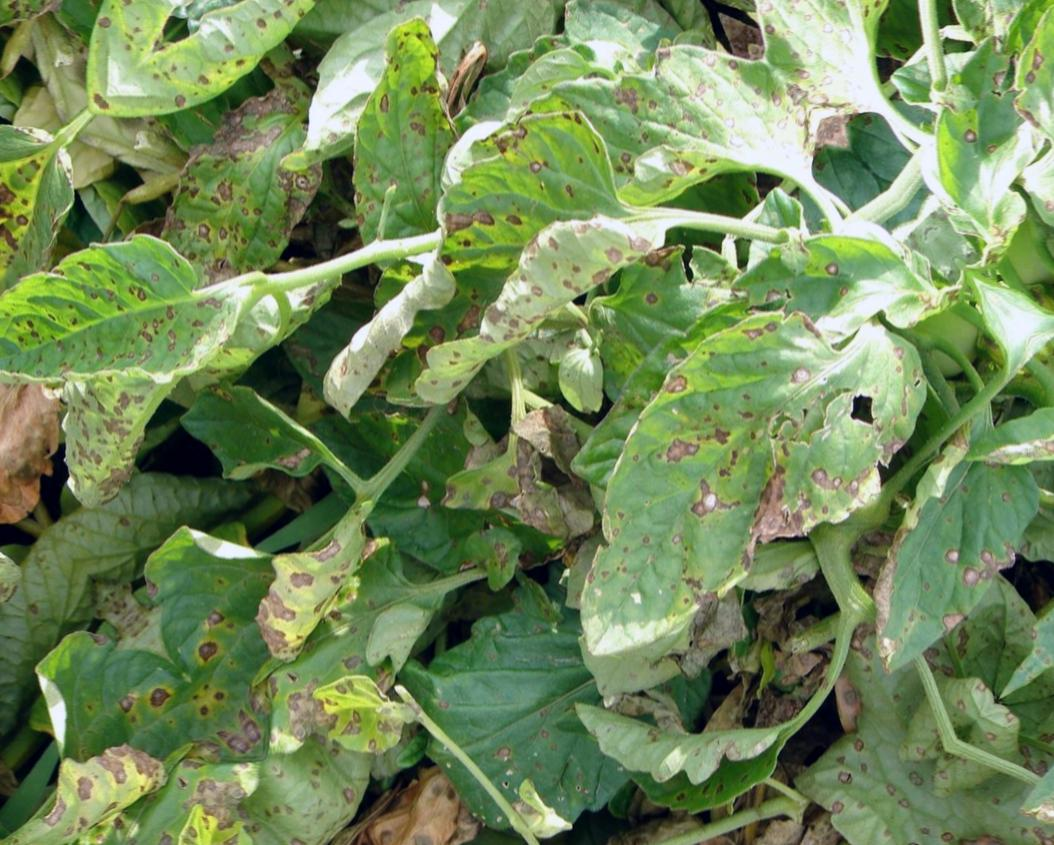Tomato Septoria leaf spot: (477, 232, 985, 734), (319, 79, 696, 452), (448, 0, 845, 328), (0, 154, 267, 502), (245, 6, 550, 310), (784, 393, 1054, 713), (103, 434, 388, 718)
